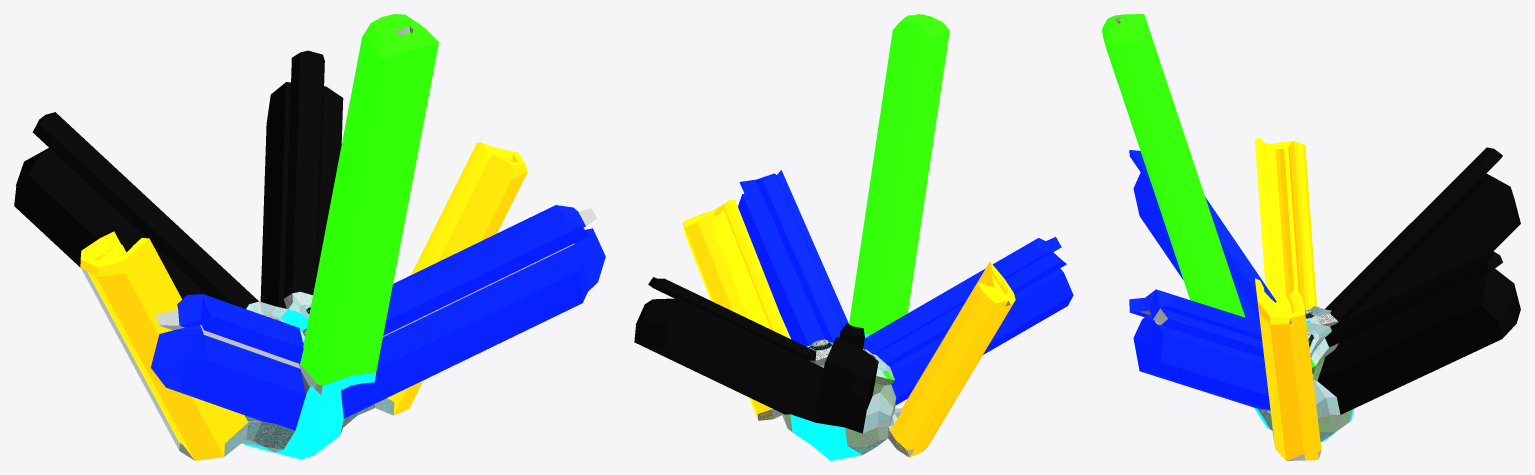
The model's file is monkey_star.gltf.
3 views of the same model, side by side, from view 1: azimuth 30°, elevation 25°; view 2: azimuth 150°, elevation 25°; view 3: azimuth 270°, elevation 25° (orthographic). The views are drawn at different scales.
Visible parts, largest first — view 1: Suzanne; view 2: Suzanne; view 3: Suzanne.
Part boxes in pixels (x1,y1,x2,y2): Suzanne: (14, 14, 605, 460); Suzanne: (634, 14, 1073, 460); Suzanne: (1102, 14, 1520, 460).
Size of the model in its own units: 5.58 by 5.97 by 5.37.
